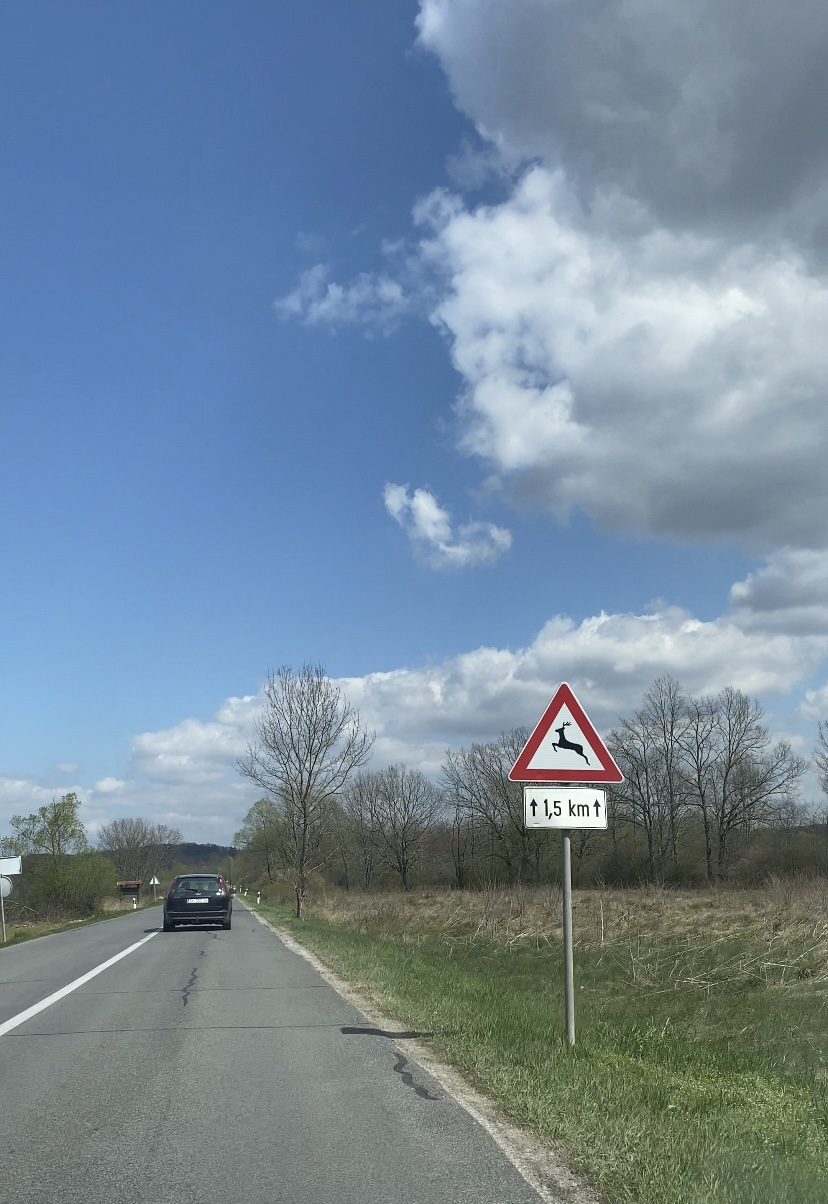Divljač na cesti: (508, 682, 625, 784)
